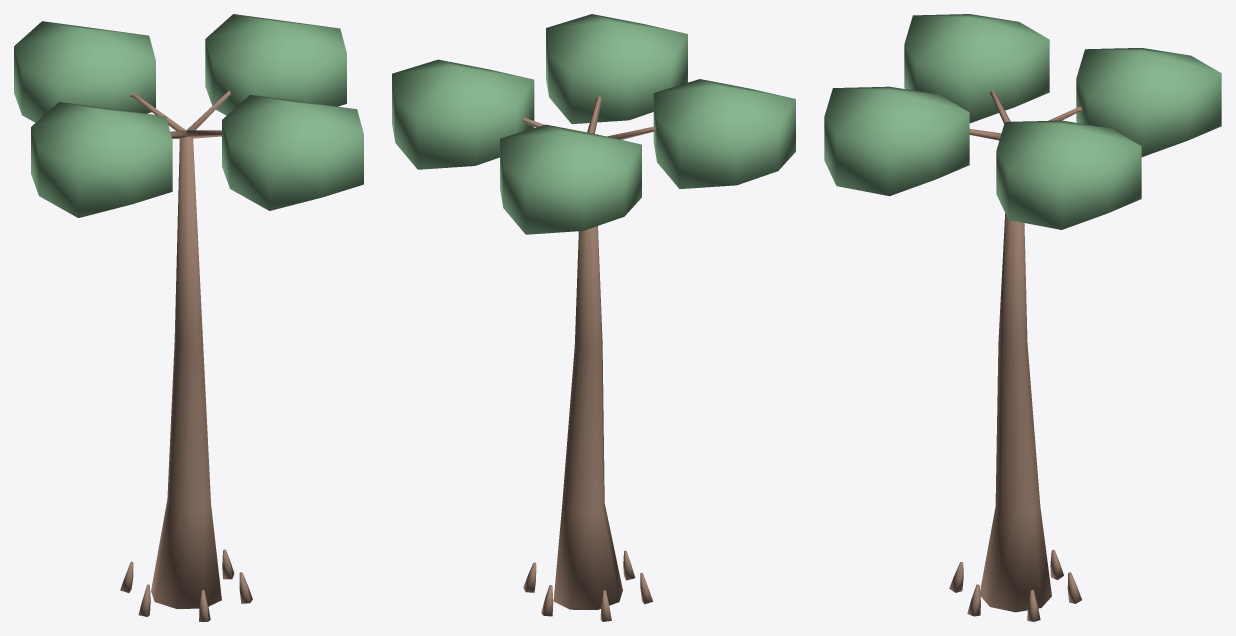
The model's file is canopy_bald_cypress.glb.
3 views of the same model, side by side, from view 1: azimuth 30°, elevation 25°; view 2: azimuth 150°, elevation 25°; view 3: azimuth 270°, elevation 25° (orthographic). The views are drawn at different scales.
Parts seen in each view (by area): view 1: Flora_Bald_Cypress; view 2: Flora_Bald_Cypress; view 3: Flora_Bald_Cypress.
Boxes of the visible parts, bbox=[...] form: Flora_Bald_Cypress: bbox=[14, 14, 363, 621]; Flora_Bald_Cypress: bbox=[392, 14, 795, 621]; Flora_Bald_Cypress: bbox=[824, 14, 1221, 621].
Size of the model in its own units: 7.11 by 10.38 by 7.11.
